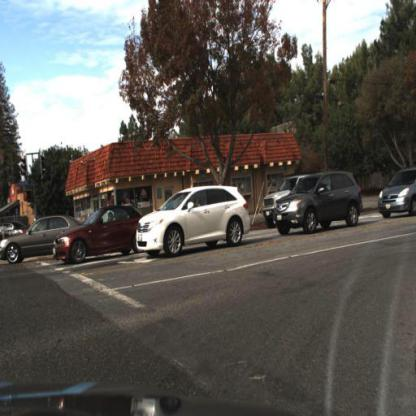car: (131, 176, 263, 263), (135, 183, 251, 259), (275, 163, 370, 246), (274, 170, 364, 241), (54, 204, 148, 269), (2, 215, 93, 267), (263, 172, 311, 225), (377, 164, 416, 222), (258, 178, 286, 238)
